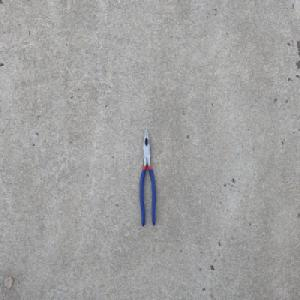Pliers: (139, 128, 156, 227)
